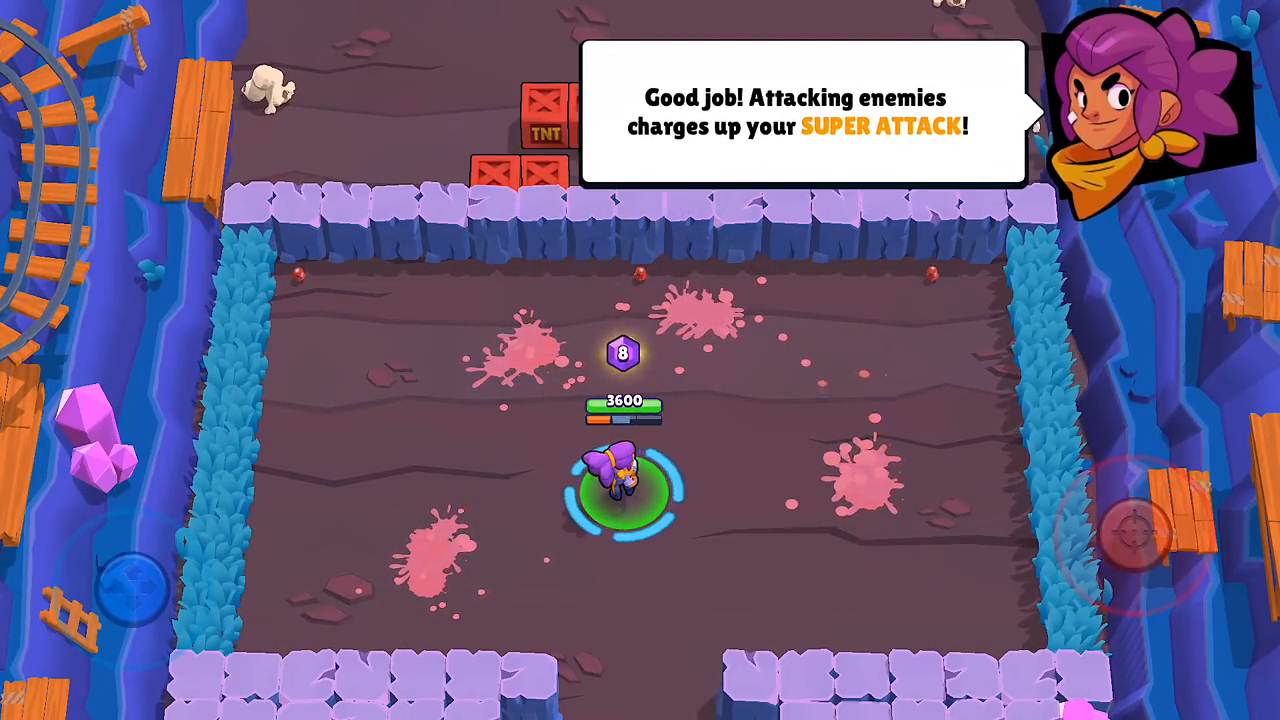move_stick: (95, 552, 181, 618)
